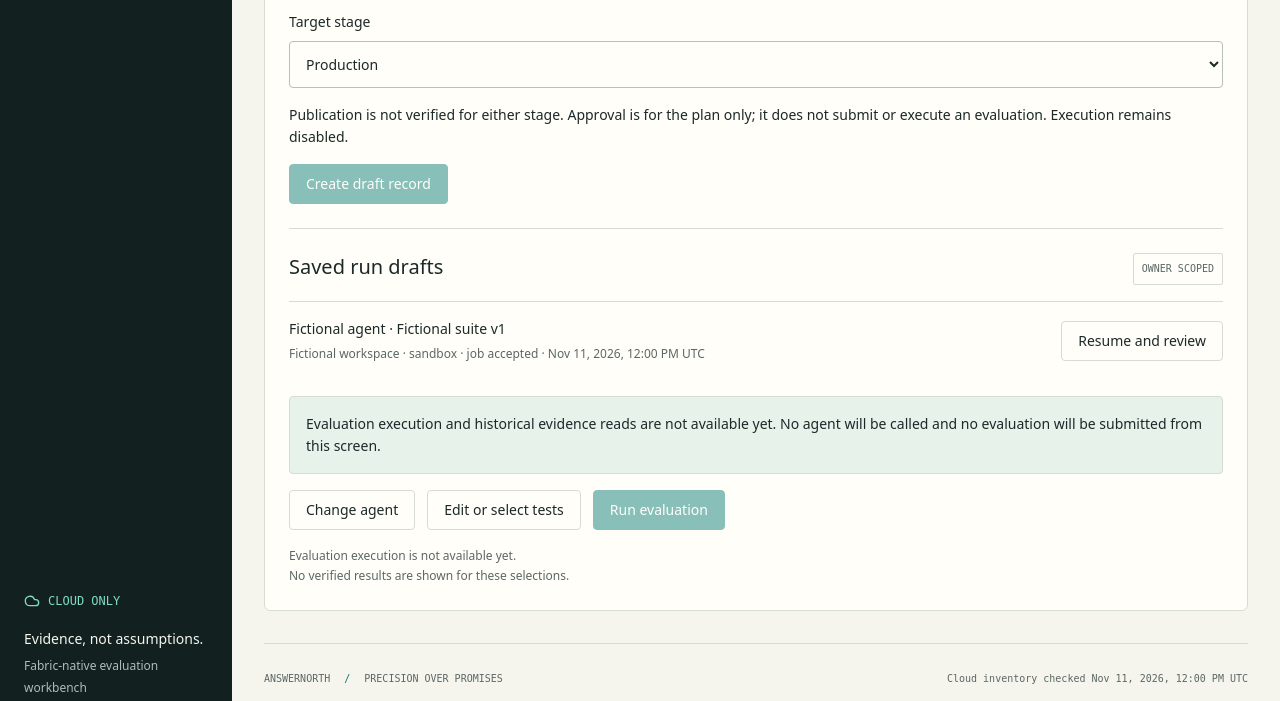
Scenario: notebook job status › directs job configuration errors to the job workspace and notebook without exposing backend details
(page scrolled)
Click the button "Resume and review".
click(1142, 341)  # box [1061,321,1223,361]
(page scrolled)
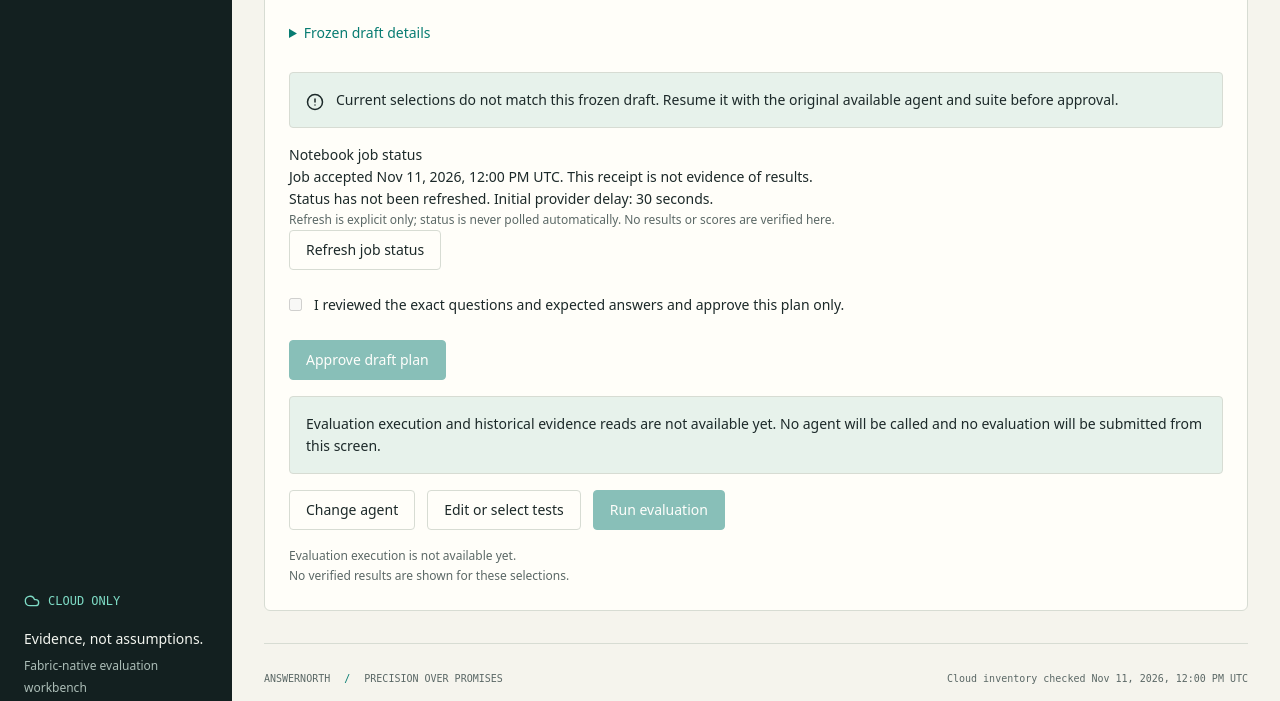
Click the button "Refresh job status".
click(365, 250)  # box [289,230,441,270]
(page scrolled)
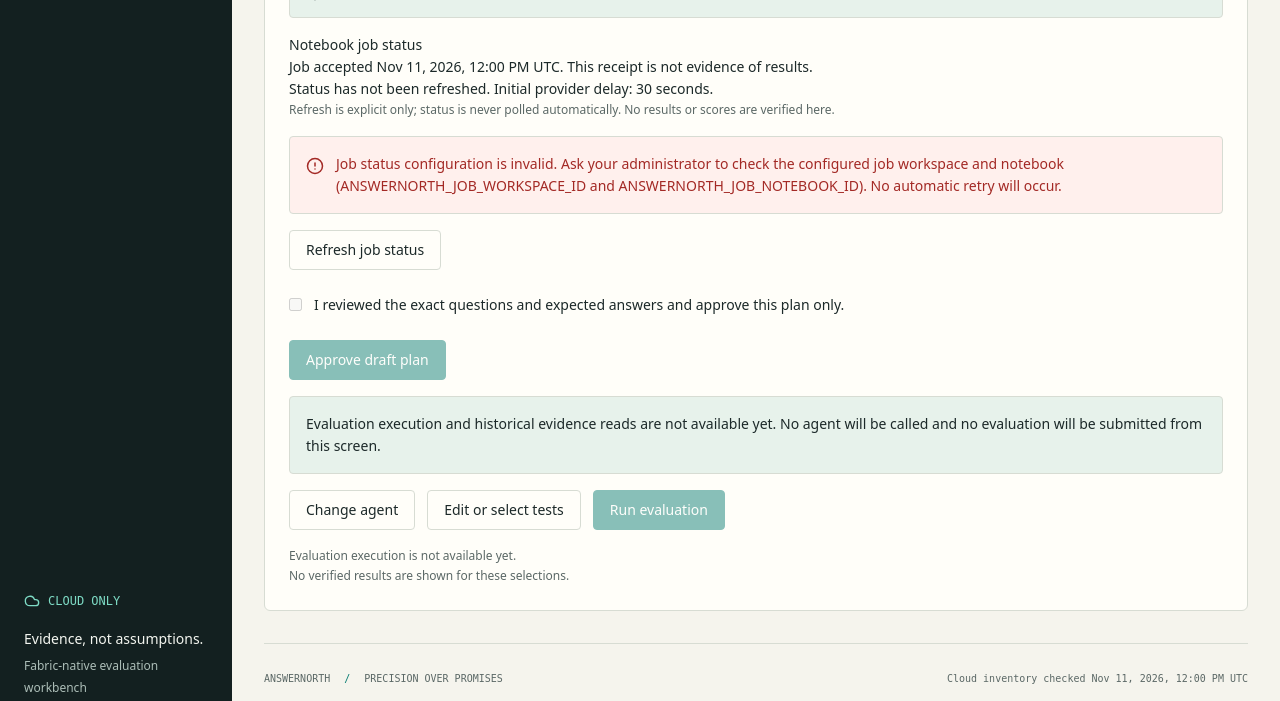
Now the text "ANSWERNORTH_JOB_WORKSPACE_ID and ANSWERNORTH_JOB_NOTEBOOK_ID" is shown, box [336,154,1064,195]
